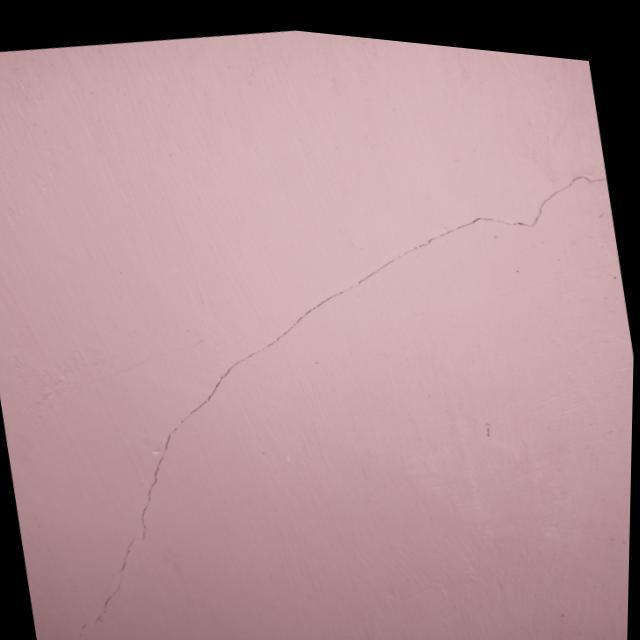Crack: (83, 176, 584, 638)
